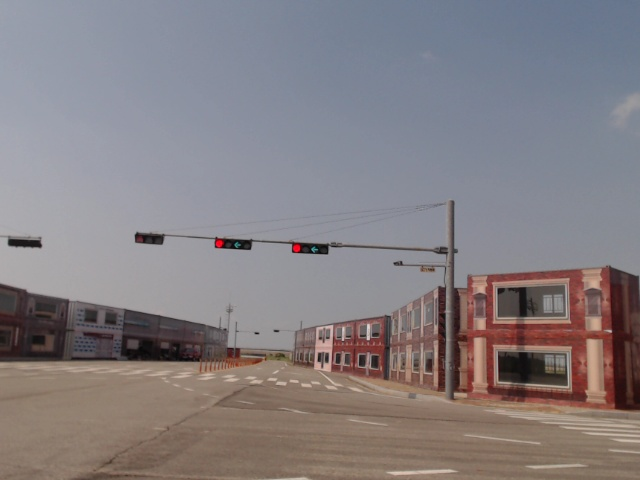left_green_4: (292, 242, 328, 255), (216, 240, 251, 250)
